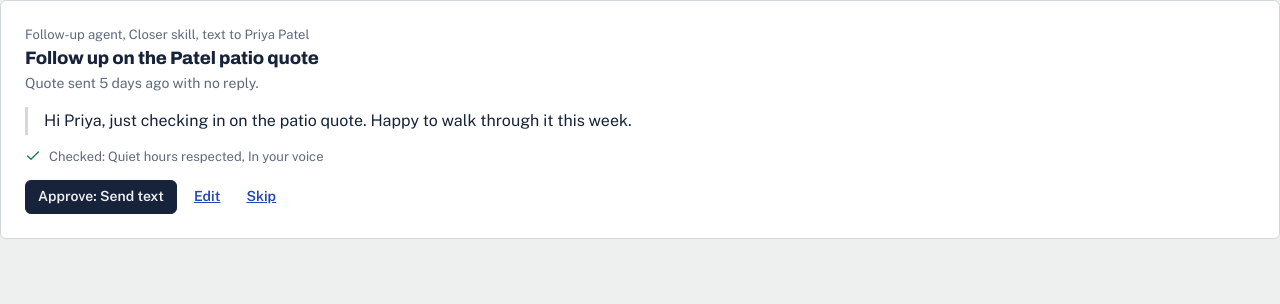
AgentCard › shows the rule that stopped a send on the card
The image size is (1280, 304).
What coordinates should you click on to do the following:
click the button "Approve: Send text"
I would click on:
 (101, 197)
Its box is [25,180,177,214].
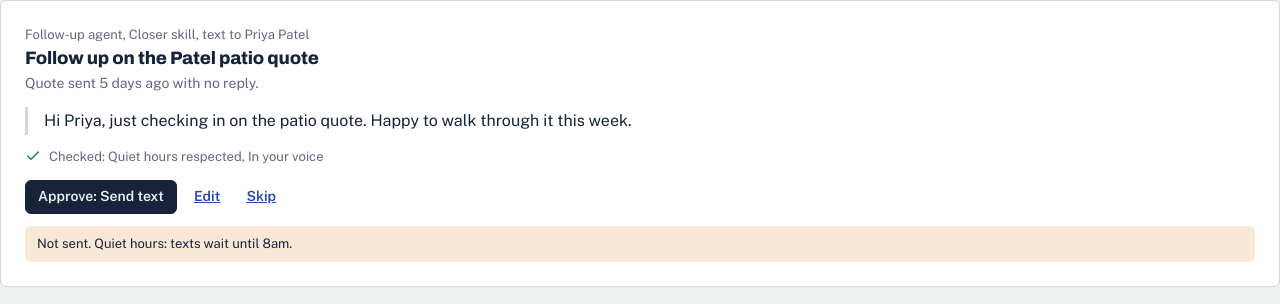
Expected: the text "Not sent. Quiet hours: texts wait until 8am." is shown, [25,226,1255,262]
